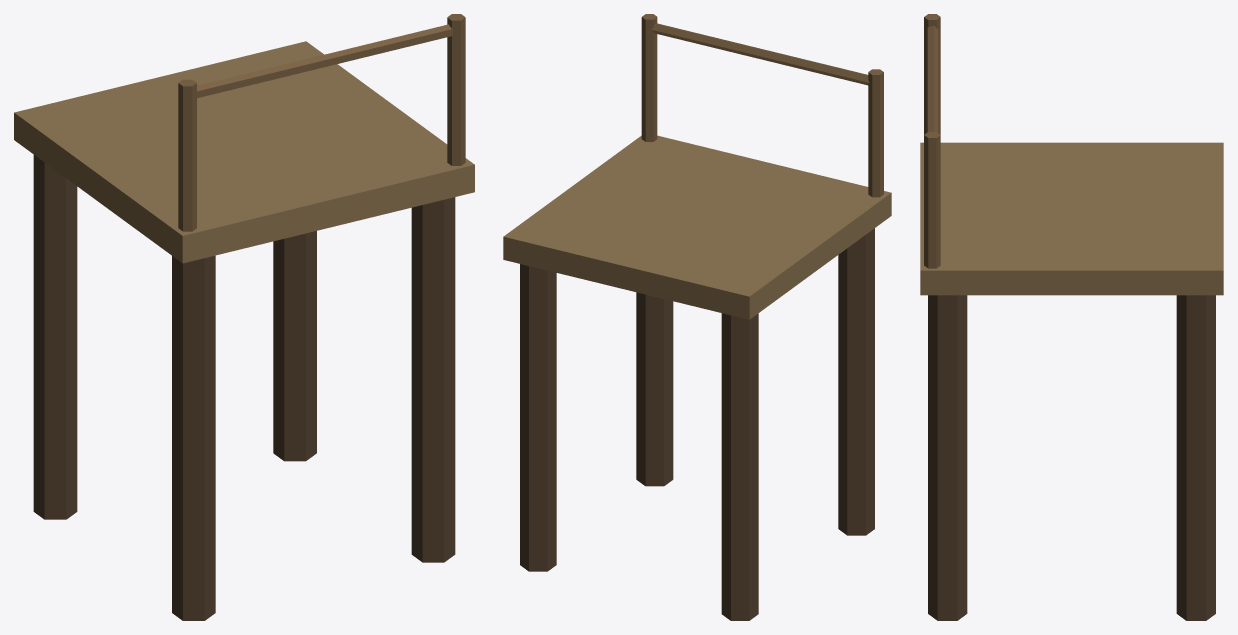
File: K_WalkT.glb
3 views of the same model, side by side, from view 1: azimuth 30°, elevation 25°; view 2: azimuth 150°, elevation 25°; view 3: azimuth 270°, elevation 25° (orthographic). The views are drawn at different scales.
Visible parts, largest first — view 1: K_WalkT_Foundation, K_WalkT_Structure, K_WalkT_Fixtures; view 2: K_WalkT_Structure, K_WalkT_Foundation, K_WalkT_Fixtures; view 3: K_WalkT_Structure, K_WalkT_Foundation, K_WalkT_Fixtures.
Boxes of the visible parts, x1,y1,x2,y2 form: K_WalkT_Foundation: [33, 155, 455, 620]; K_WalkT_Structure: [14, 41, 474, 263]; K_WalkT_Fixtures: [178, 14, 465, 231]; K_WalkT_Structure: [503, 135, 891, 319]; K_WalkT_Foundation: [520, 228, 874, 620]; K_WalkT_Fixtures: [641, 14, 883, 197]; K_WalkT_Structure: [920, 142, 1223, 295]; K_WalkT_Foundation: [928, 295, 1215, 620]; K_WalkT_Fixtures: [924, 14, 940, 268].
Size of the model in its own units: 2 by 3.53 by 2.
